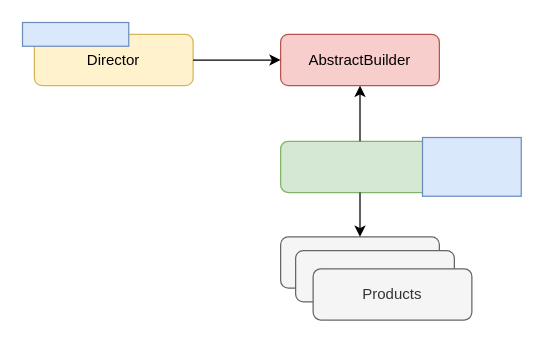
This 543x341 diagram has some shape labels left out. The centre of each missing label's shape, as x and y in pixels:
"BuildStep1(); BuildStep2(); BuildStep3();" goes at pixel 471 166.
"ConcreteBuilder" goes at pixel 359 166.
"Construct();" goes at pixel 75 33.
